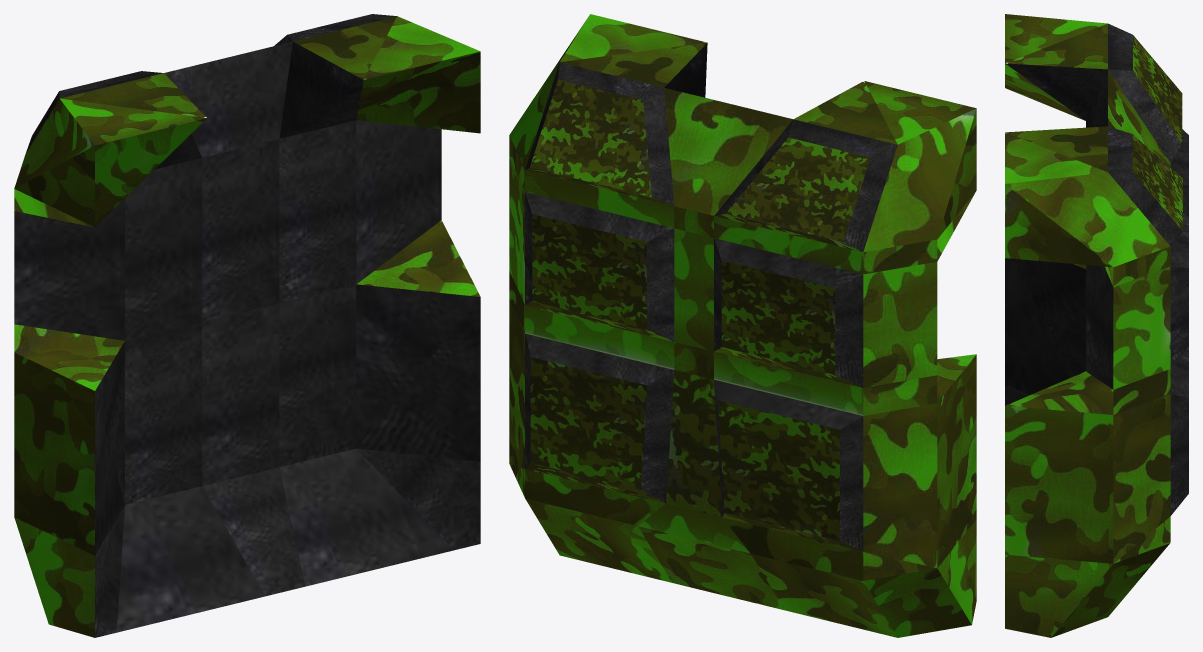
Rendered from Armour100.fbx.
3 renders of one model, left to right at view 1: azimuth 30°, elevation 25°; view 2: azimuth 150°, elevation 25°; view 3: azimuth 270°, elevation 25°, orthographic. The views are drawn at different scales.
Parts seen in each view (by area): view 1: Armour100; view 2: Armour100; view 3: Armour100.
Boxes of the visible parts, x1,y1,x2,y2 form: Armour100: (14, 14, 480, 637); Armour100: (509, 14, 976, 637); Armour100: (1005, 14, 1188, 637).
Bounding box in the file's own units: 1.82 × 2 × 0.7487.
